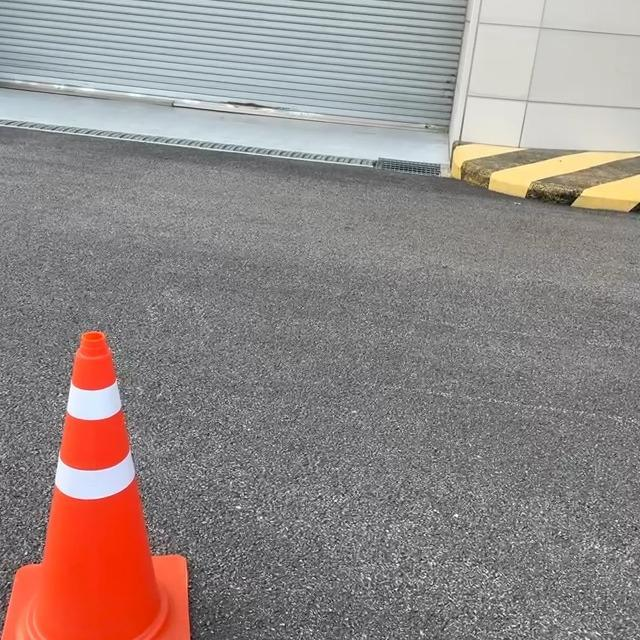fallen_object: (5, 316, 221, 640)
